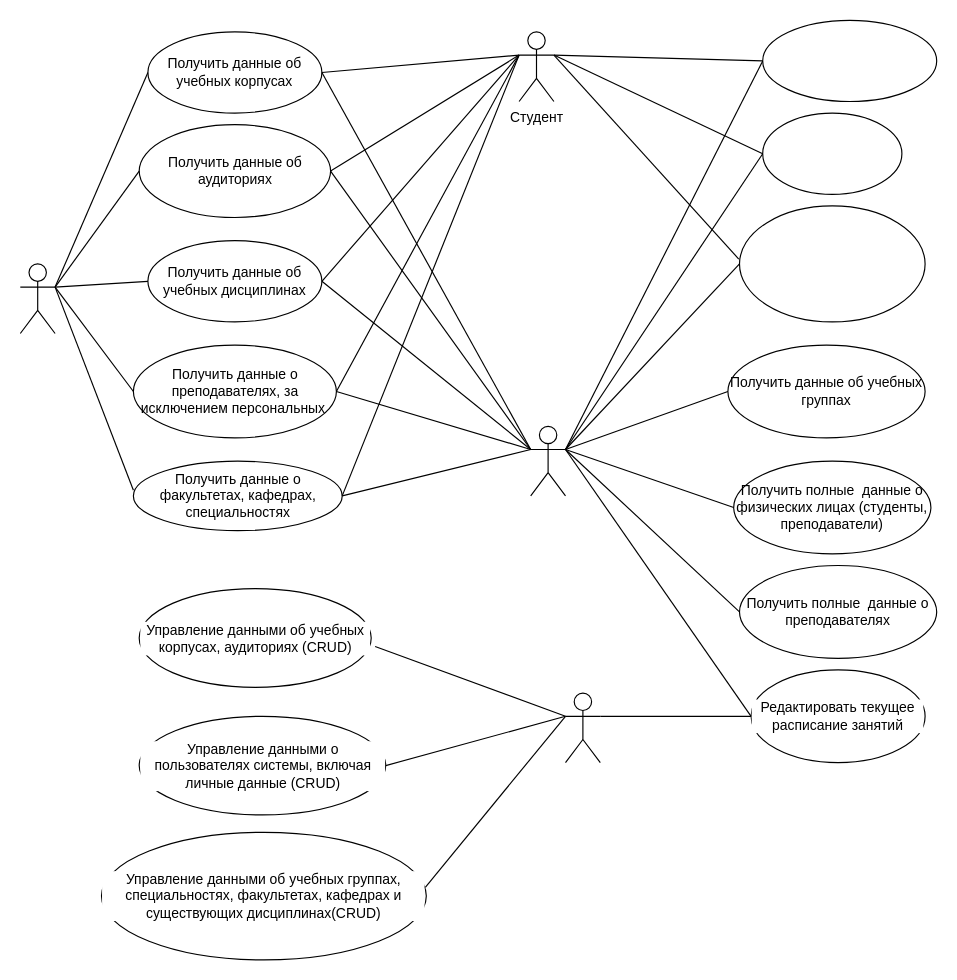
This 957x980 diagram has some shape labels left out. Here are the shapes that lost their labels. From the top down, the centre of each, then its label:
At (849,60): "Получить текущее расписание занятий".
At (832,153): "Получить личный профиль (Person)".
At (831,263): "Получить данные о студентах, за исключением личных (StudentPreview)".
At (37,298): "Гость".
At (548,460): "Диспетчер".
At (582,727): "Администратор".
